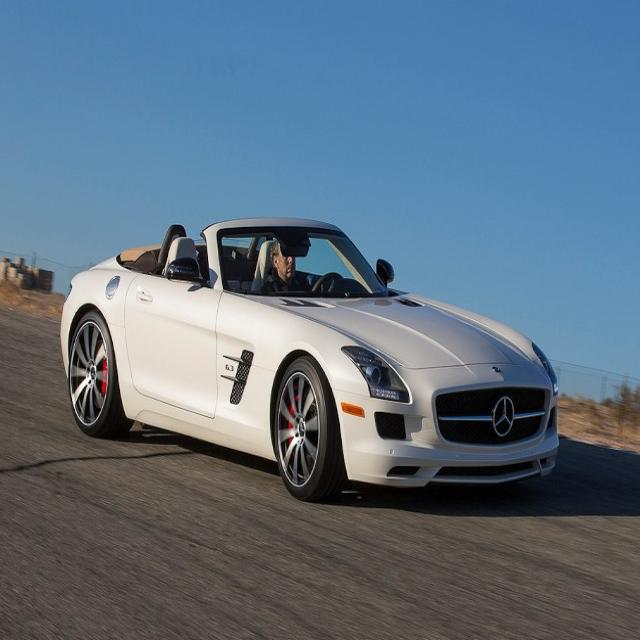front_bumper: (329, 358, 561, 489)
front_glass: (216, 225, 387, 299)
front_left_side_light: (528, 340, 560, 396)
front_left_side_mirror: (374, 256, 396, 292)
front_right_side_door: (123, 262, 224, 424)
front_right_side_light: (339, 340, 414, 407)
front_right_side_mirror: (164, 235, 208, 289)
wheel: (272, 354, 344, 500), (67, 310, 132, 440)
